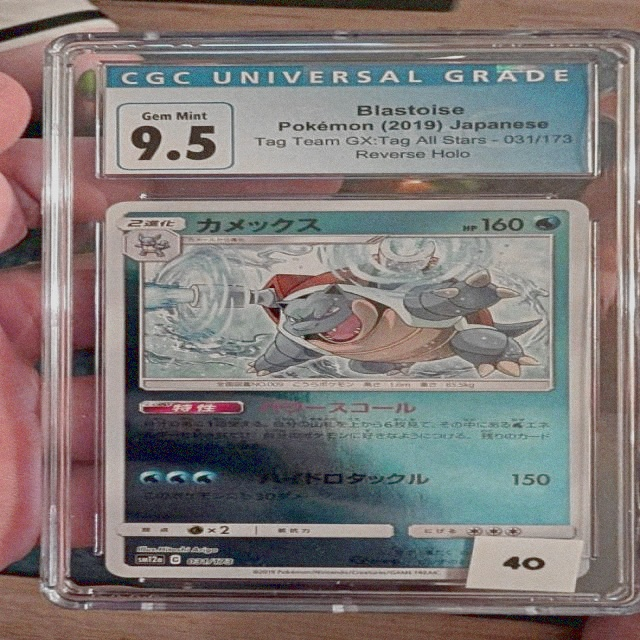card: (104, 198, 591, 582)
